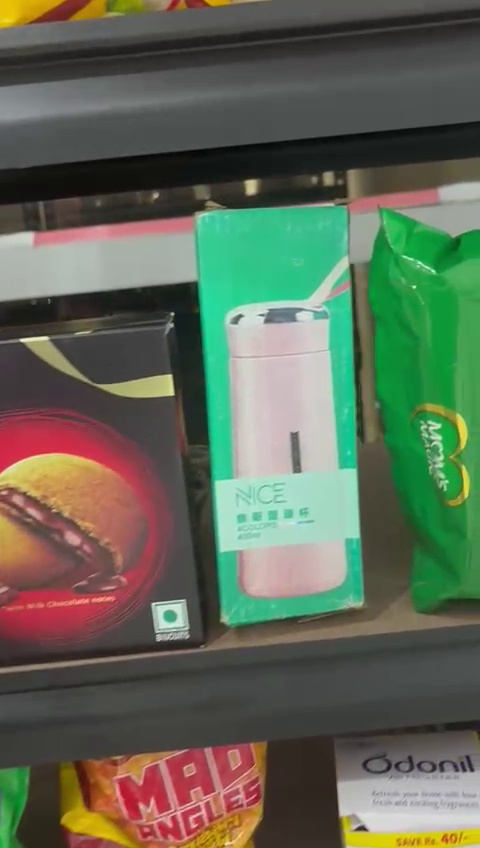Bottle: (191, 203, 364, 616)
